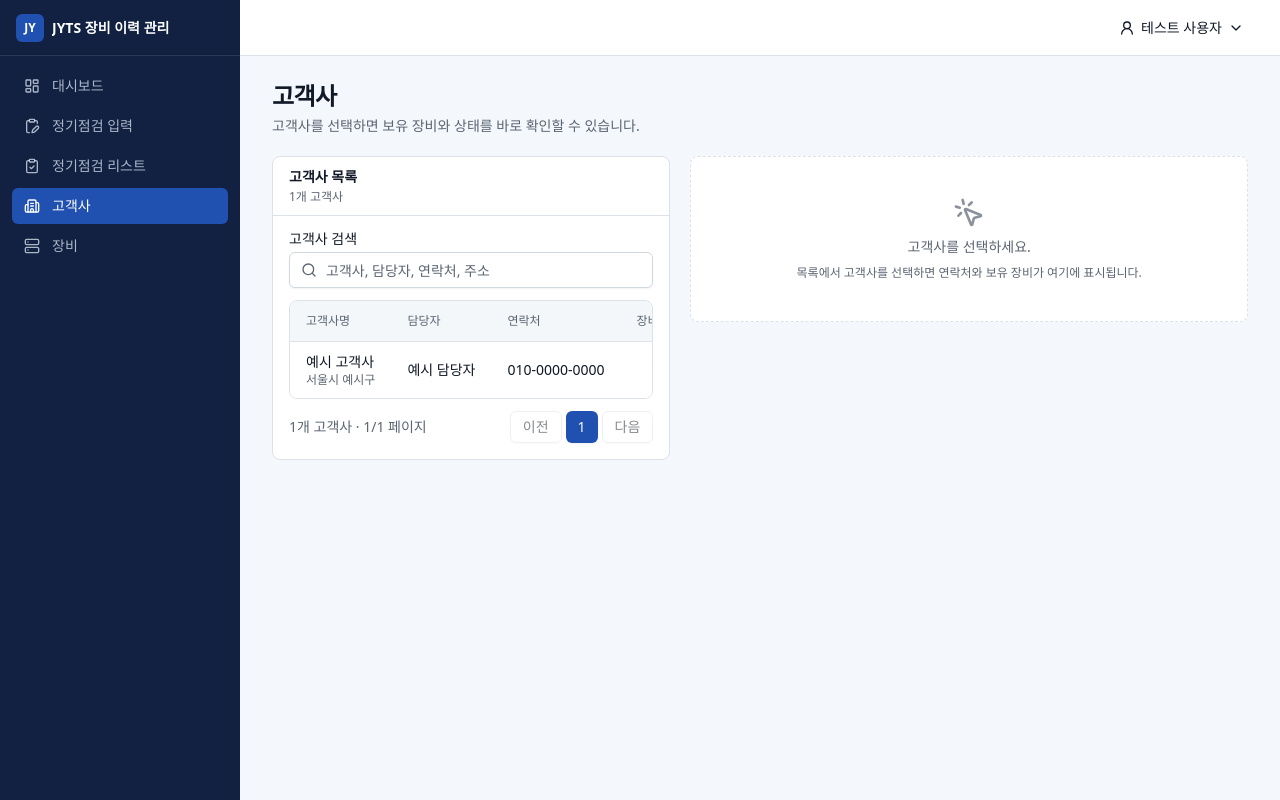
Scenario: organization page › shows the selected customer equipment and links each device to its detail page
Expected: the text "고객사를 선택하세요." is shown, [908,237,1031,257]
Click the link "예시 고객사" at (341, 362), box [306,352,375,372]
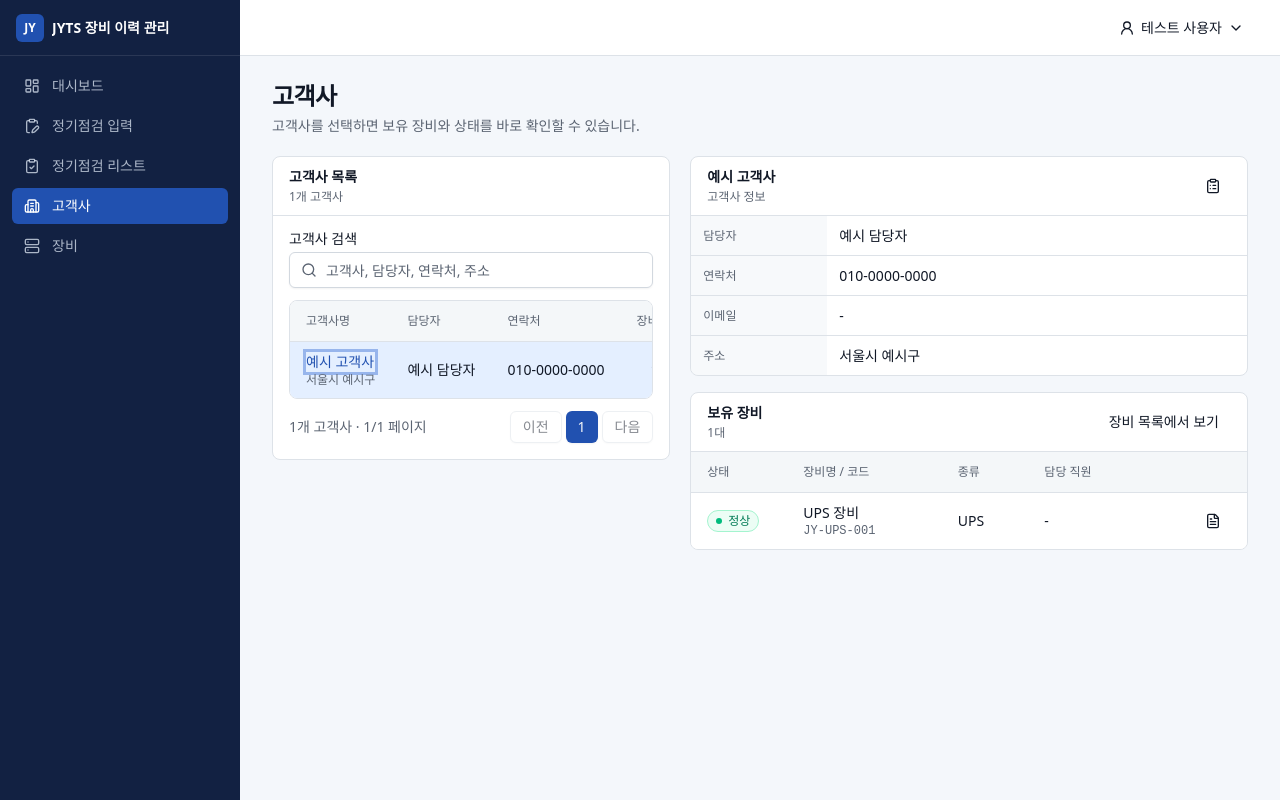
Now the text "정상" is shown, box [707,510,759,532]
